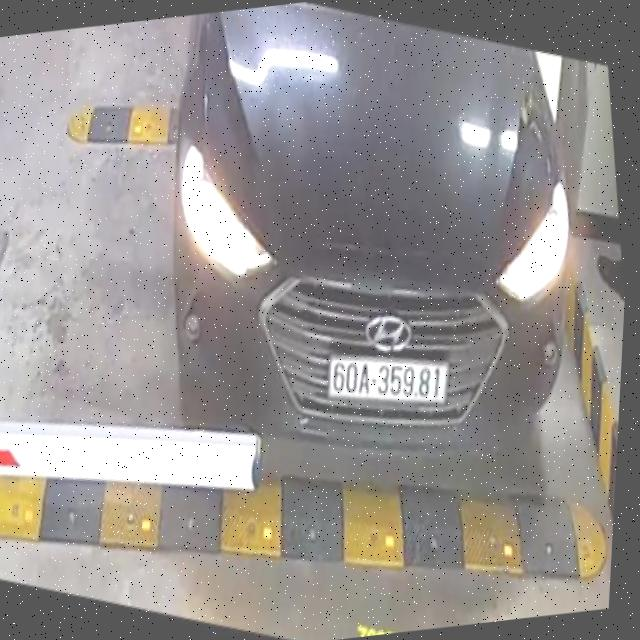car: (118, 1, 610, 504)
plate: (317, 339, 459, 422)
